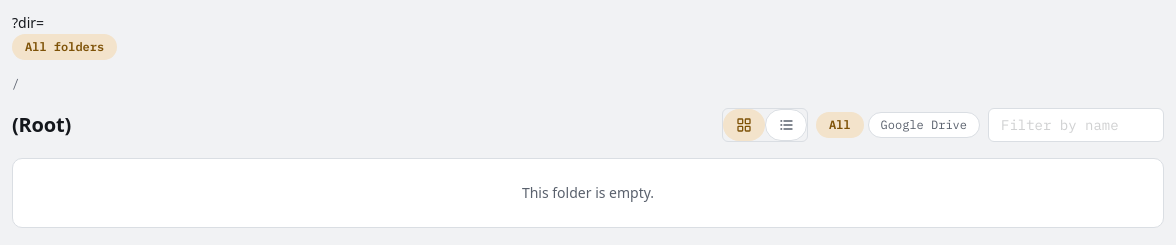
Test case: FolderOrganizer › distinguishes filter-empty from folder-empty
The image size is (1176, 245).
Expected: the text "This folder is empty." is shown, top-left (12, 158), bottom-right (1164, 228)
Type "zzz-no-match" into the search field labelled "Filter by name".
click(1076, 125); type("zzz-no-match")  # box top-left (988, 108), bottom-right (1164, 142)
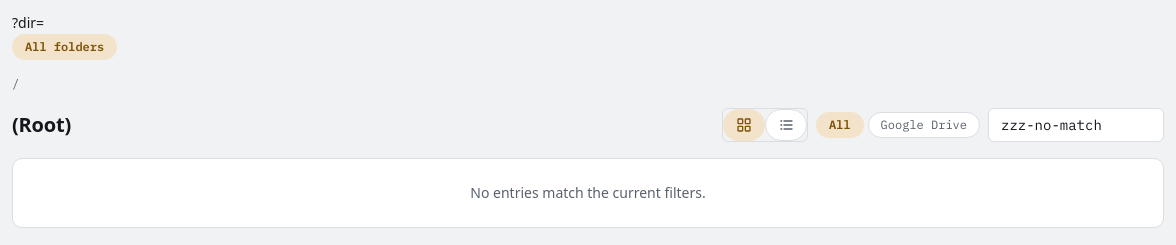
Expected: the text "No entries match the current filters." is shown, top-left (12, 158), bottom-right (1164, 228)
